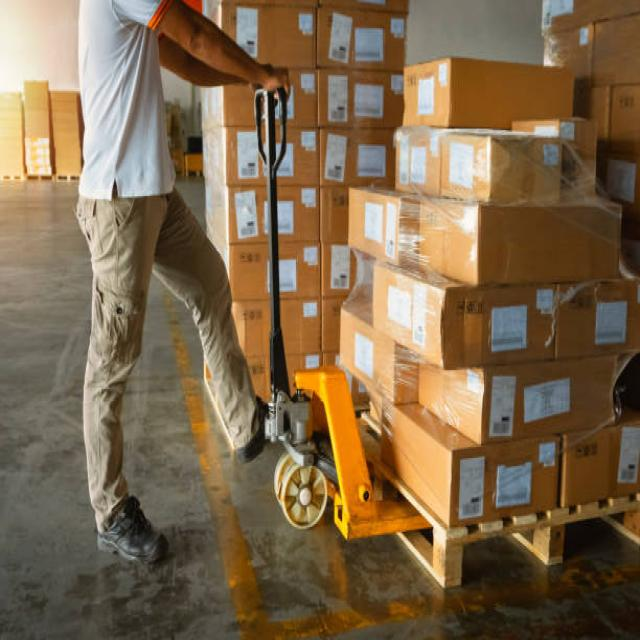Wooden-Pallets: (442, 496, 639, 590)
